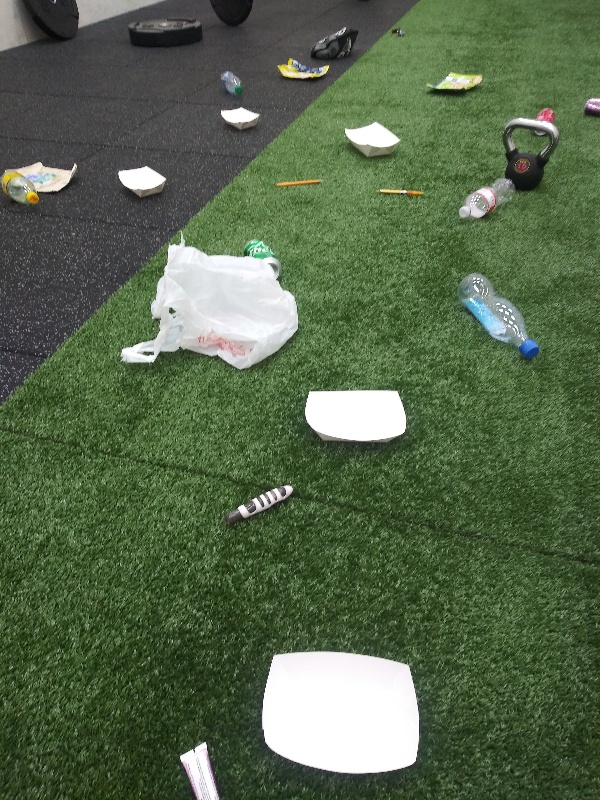bag: (18, 158, 86, 192), (272, 54, 333, 84), (421, 70, 486, 96)
bottle: (455, 270, 544, 366), (453, 174, 519, 225), (1, 167, 45, 216), (211, 68, 248, 99)
can: (238, 238, 286, 279), (529, 106, 558, 137), (579, 93, 600, 123)
plate: (256, 646, 422, 779), (297, 385, 414, 453), (336, 118, 408, 163), (113, 163, 168, 201), (215, 105, 263, 134)
